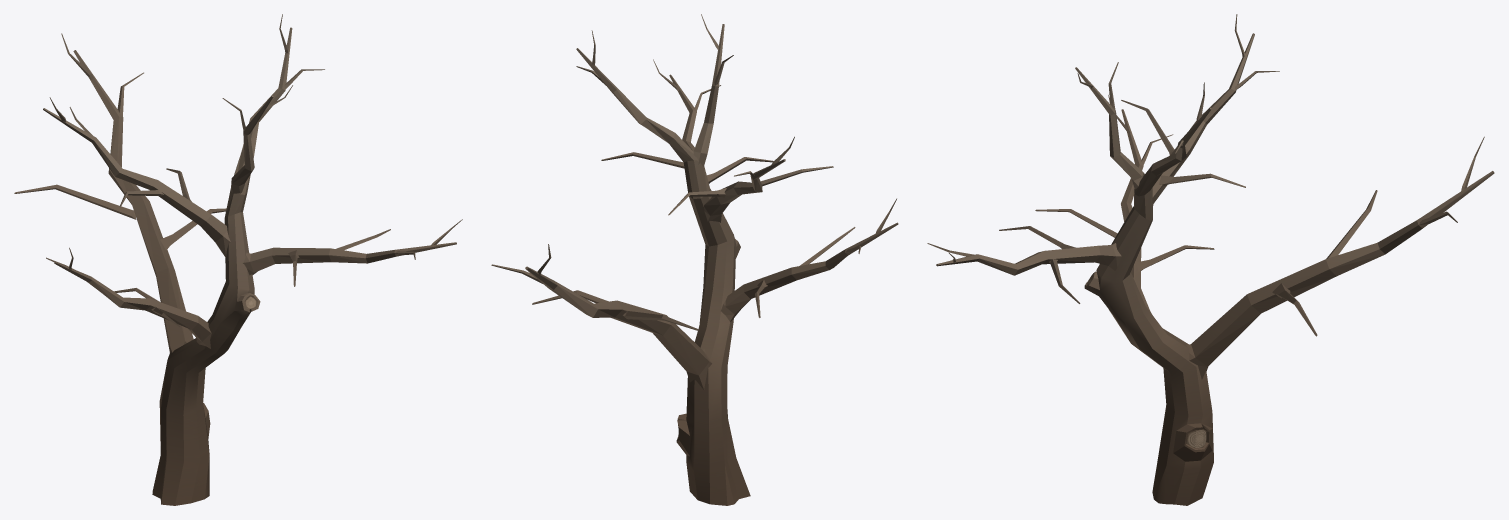
Rendered from PT_Fruit_Tree_01_dead_cut.glb.
The picture shows the model from 3 angles, left to right: view 1: azimuth 30°, elevation 25°; view 2: azimuth 150°, elevation 25°; view 3: azimuth 270°, elevation 25°; orthographic projection. The views are drawn at different scales.
Parts seen in each view (by area): view 1: PT_Fruit_Tree_01_dead_cut; view 2: PT_Fruit_Tree_01_dead_cut; view 3: PT_Fruit_Tree_01_dead_cut.
Boxes of the visible parts, bbox=[...] form: PT_Fruit_Tree_01_dead_cut: bbox=[14, 14, 462, 505]; PT_Fruit_Tree_01_dead_cut: bbox=[491, 14, 898, 505]; PT_Fruit_Tree_01_dead_cut: bbox=[927, 14, 1494, 505].
Size of the model in its own units: 3.56 by 4.62 by 5.05.
1 material, 1 textured.
